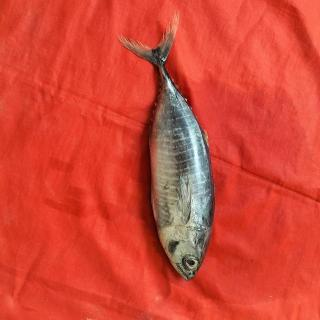Ikan: (116, 14, 220, 290)
